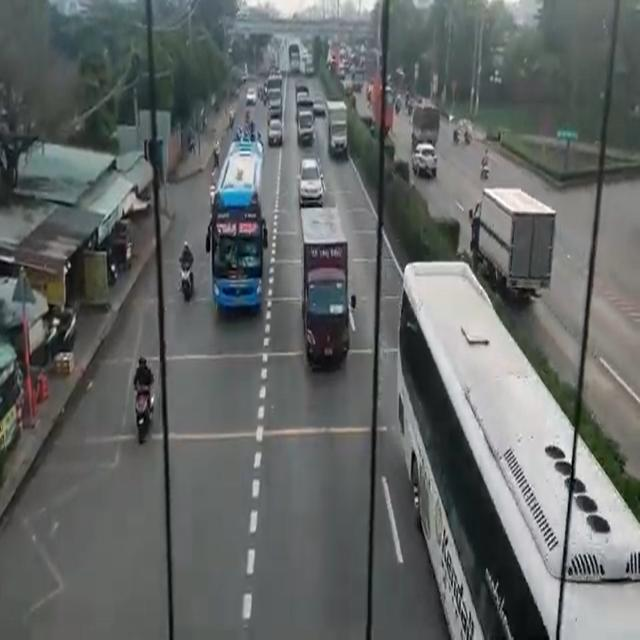bus: (400, 261, 640, 640), (218, 137, 266, 308)
car: (412, 145, 441, 175), (298, 165, 323, 195), (270, 115, 280, 149)
motor: (134, 352, 152, 437), (178, 236, 192, 304)
truck: (472, 188, 554, 290), (300, 212, 348, 365), (327, 97, 348, 157), (412, 107, 440, 140), (298, 101, 314, 148)
